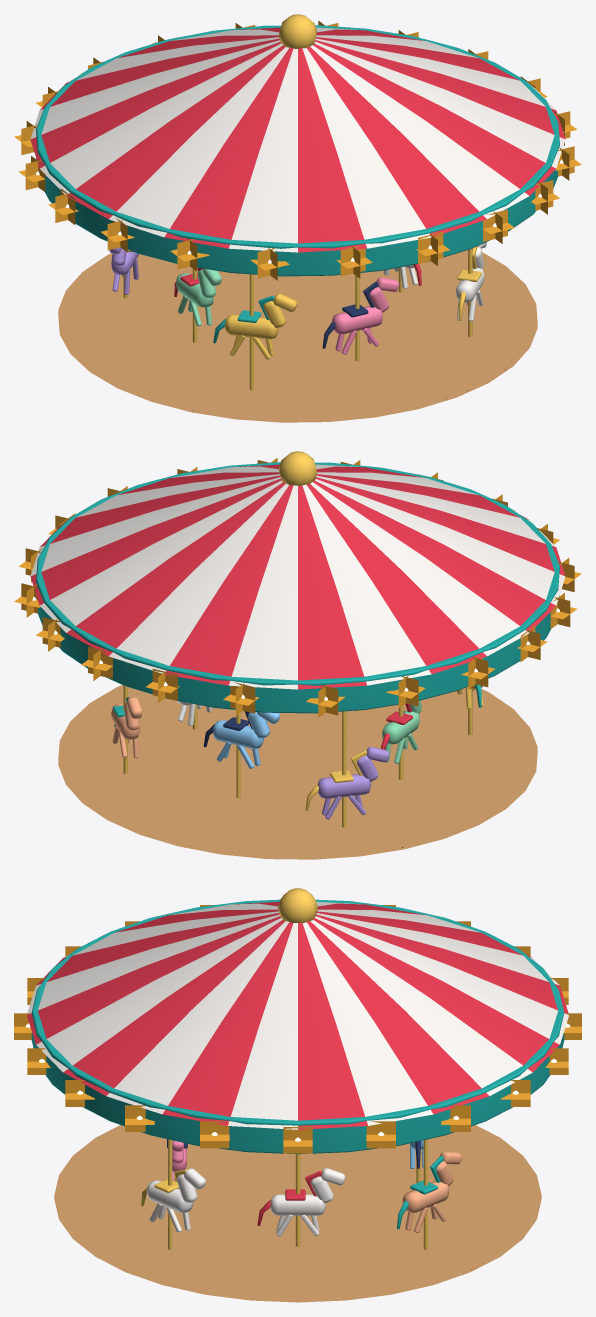
The model's file is sky_carousel_top.glb.
The picture shows the model from 3 angles, top to bottom: view 1: azimuth 30°, elevation 25°; view 2: azimuth 150°, elevation 25°; view 3: azimuth 270°, elevation 25°; orthographic projection.
Visible parts, largest first — view 1: CarouselTop; view 2: CarouselTop; view 3: CarouselTop.
Boxes of the visible parts, x1,y1,x2,y2 form: CarouselTop: (14, 14, 581, 422); CarouselTop: (14, 451, 581, 859); CarouselTop: (14, 888, 581, 1302).
Bounding box in the file's own units: 11.31 × 6.8 × 11.31.
